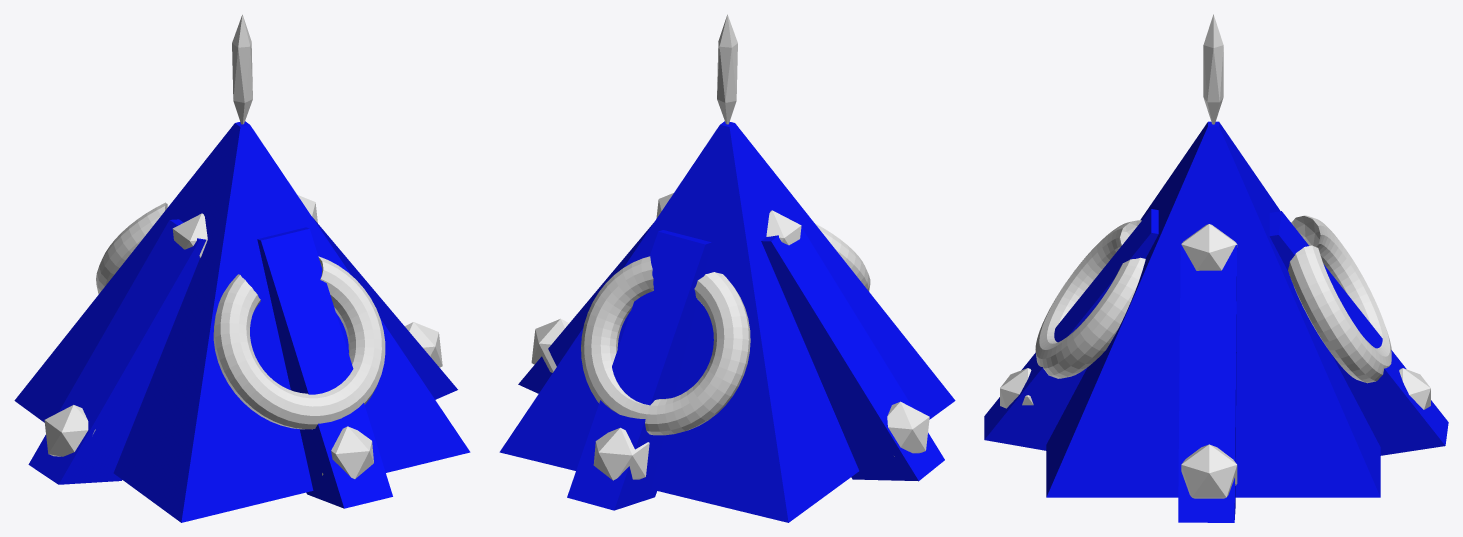
File: neksus.fbx
The picture shows the model from 3 angles, left to right: view 1: azimuth 30°, elevation 25°; view 2: azimuth 150°, elevation 25°; view 3: azimuth 270°, elevation 25°; orthographic projection.
Visible parts, largest first — view 1: Cube, Cube.001, Torus, Torus.001, Icosphere, Icosphere.003, Icosphere.001, Icosphere.006, Icosphere.004; view 2: Cube, Cube.001, Torus.001, Icosphere.002, Icosphere, Icosphere.003, Icosphere.004, Torus, Icosphere.006; view 3: Cube, Cube.001, Torus.001, Torus, Icosphere.004, Icosphere, Icosphere.005, Icosphere.001, Icosphere.002.
Part boxes in pixels (x1,y1,x2,y2): Cube: (14,121,470,522); Cube.001: (28,217,457,508); Torus: (213,256,385,429); Torus.001: (96,202,167,293); Icosphere: (232,14,252,124); Icosphere.003: (44,405,95,456); Icosphere.001: (322,426,373,478); Icosphere.006: (172,213,207,257); Icosphere.004: (405,322,442,367); Cube: (499,121,955,522); Cube.001: (518,220,944,510); Torus.001: (581,256,750,435); Icosphere.002: (593,427,649,480); Icosphere: (717,14,737,124); Icosphere.003: (887,401,929,456); Icosphere.004: (531,318,569,372); Torus: (815,223,870,291); Icosphere.006: (766,210,801,245); Cube: (1046,121,1380,497); Cube.001: (984,209,1448,522); Torus.001: (1288,215,1391,383); Torus: (1035,220,1145,378); Icosphere.004: (1181,444,1237,498); Icosphere: (1203,14,1223,124); Icosphere.005: (1181,224,1237,270); Icosphere.001: (1000,368,1033,408); Icosphere.002: (1399,368,1430,409).
Size of the model in its own units: 278 by 280 by 278.
